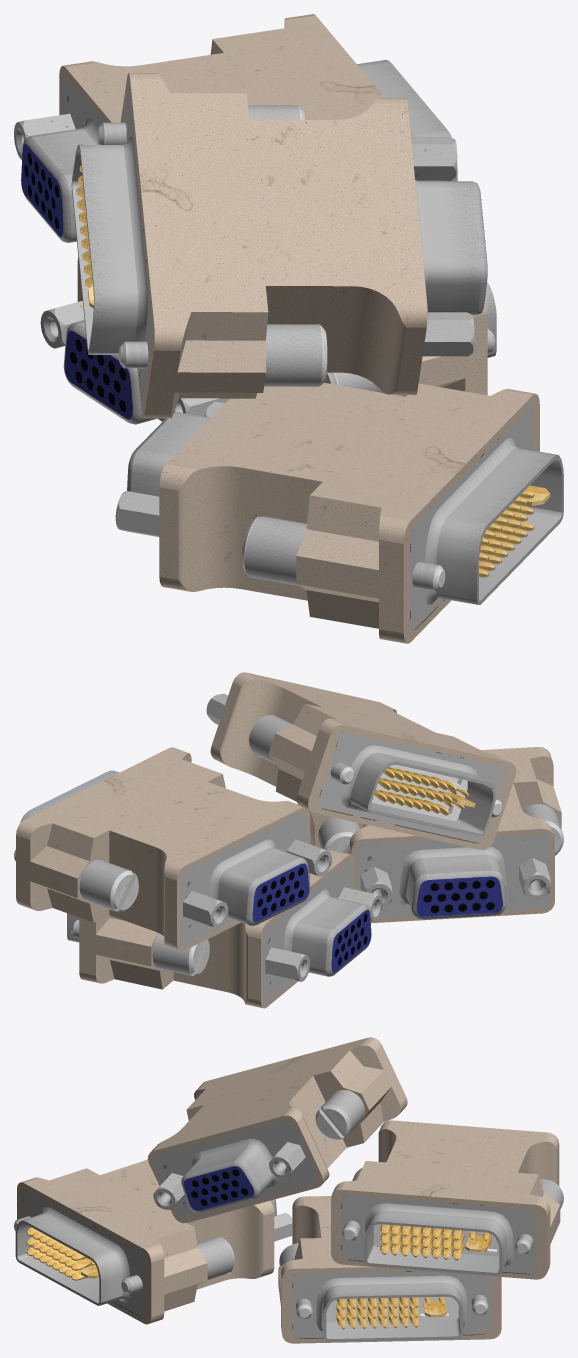
File: vgadvi-i_adapter.glb
3 renders of one model, top to bottom at view 1: azimuth 30°, elevation 25°; view 2: azimuth 150°, elevation 25°; view 3: azimuth 270°, elevation 25°, orthographic. The views are drawn at different scales.
Parts seen in each view (by area): view 1: Object_2; view 2: Object_2; view 3: Object_2.
Boxes of the visible parts, left/top/right/bottom form: Object_2: left=14, top=14, right=563, bottom=643; Object_2: left=14, top=672, right=563, bottom=1008; Object_2: left=14, top=1037, right=563, bottom=1343.
Bounding box in the file's own units: 0.0666 × 0.0444 × 0.1.
Materials: 1 (1 with a texture image).
